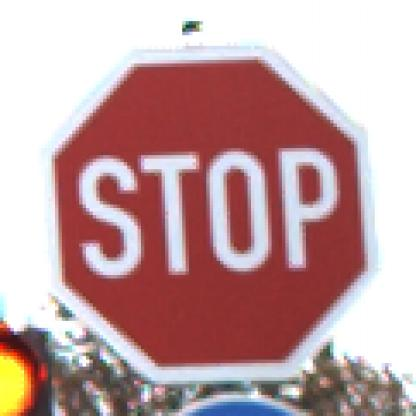stop: (29, 52, 376, 378)
